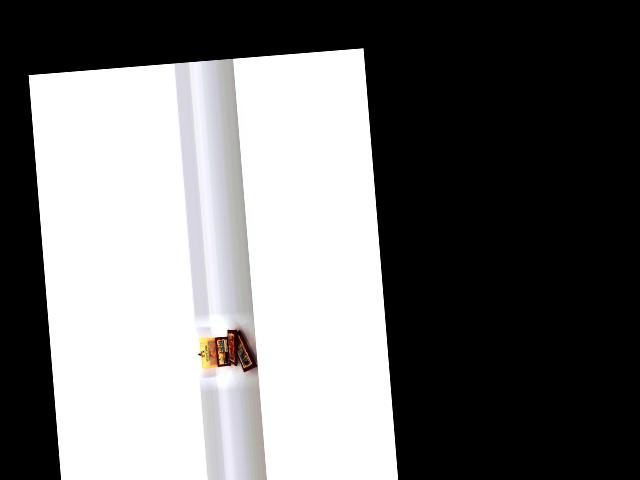chocolate: (232, 326, 261, 381)
